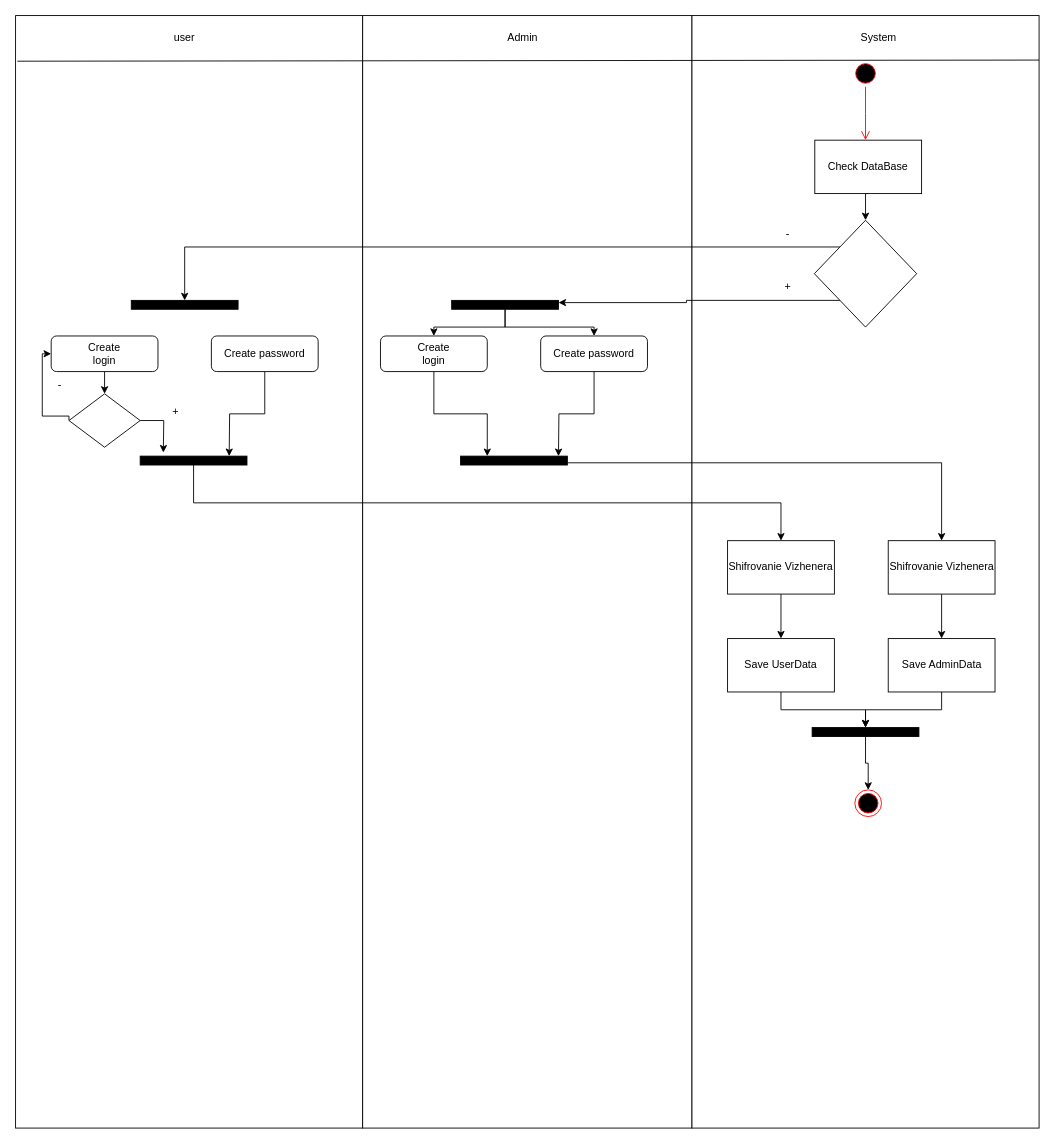
The diagram is 1056 pixels wide and 1144 high, and some of its shapes have lost their labels. The shapes that lost their labels are listed below. From the top down, each one's centre as x and y in pixels, then its label:
At (x=865, y=273): "Is that the first regisreation on this server ever?".
At (x=104, y=420): "does the login used".
